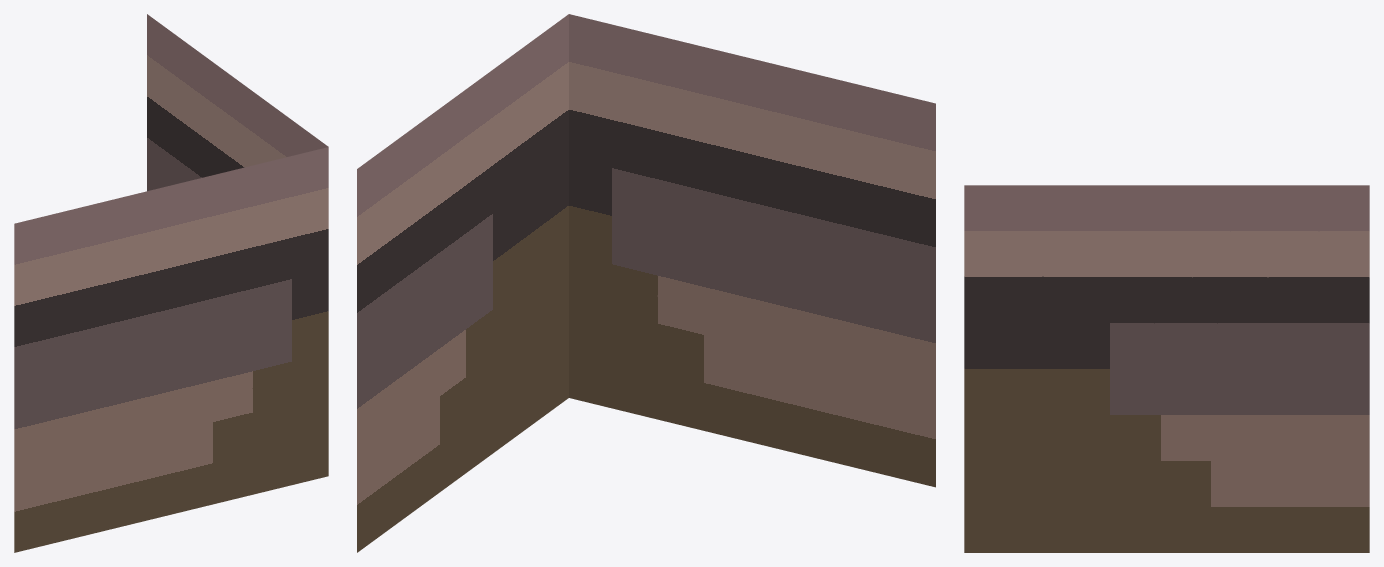
3 renders of one model, left to right at view 1: azimuth 30°, elevation 25°; view 2: azimuth 150°, elevation 25°; view 3: azimuth 270°, elevation 25°, orthographic. The views are drawn at different scales.
Bounding box in the file's own units: 0.5 × 0.5 × 0.5.
1 material, 1 textured.
